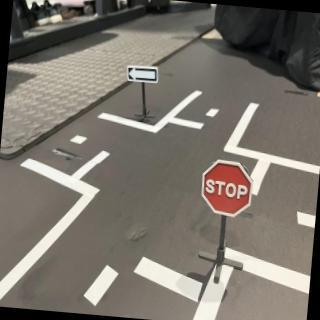sign_oneway_left: (127, 64, 163, 86)
sign_stop: (200, 156, 258, 222)
